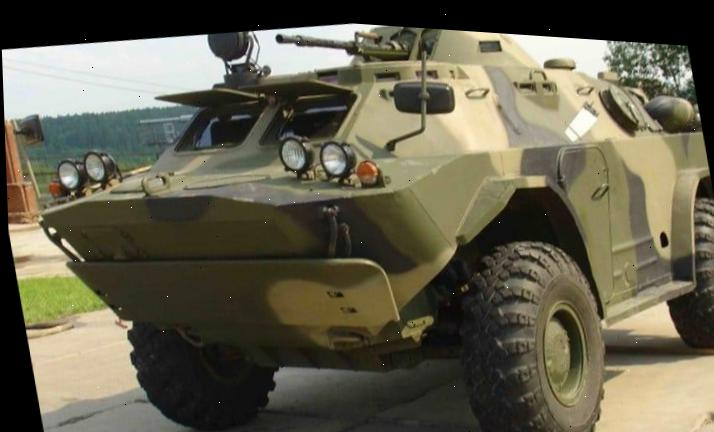tank: (6, 0, 714, 432)
